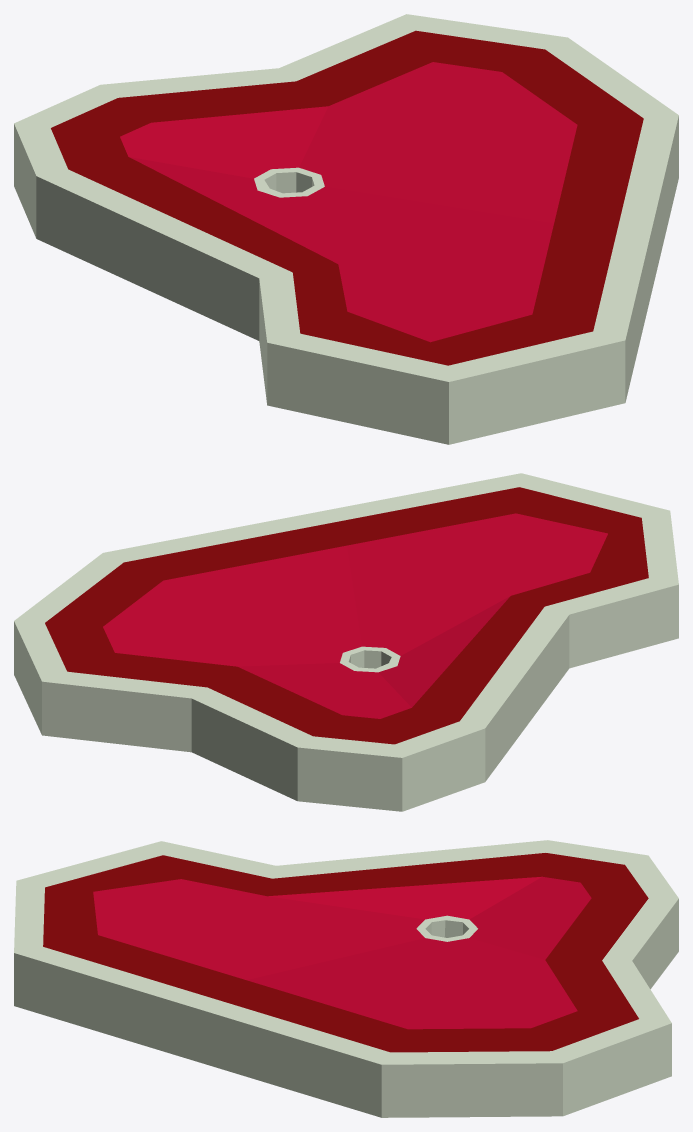
File: Carne.fbx
3 views of the same model, one above another, from view 1: azimuth 30°, elevation 25°; view 2: azimuth 150°, elevation 25°; view 3: azimuth 270°, elevation 25° (orthographic). The views are drawn at different scales.
Parts seen in each view (by area): view 1: Cube; view 2: Cube; view 3: Cube.
Part boxes in pixels (box(x1,y1,x2,y2)): Cube: box(14, 14, 678, 444); Cube: box(14, 473, 678, 811); Cube: box(14, 840, 678, 1117).
Size of the model in its own units: 175 by 19.26 by 218.
